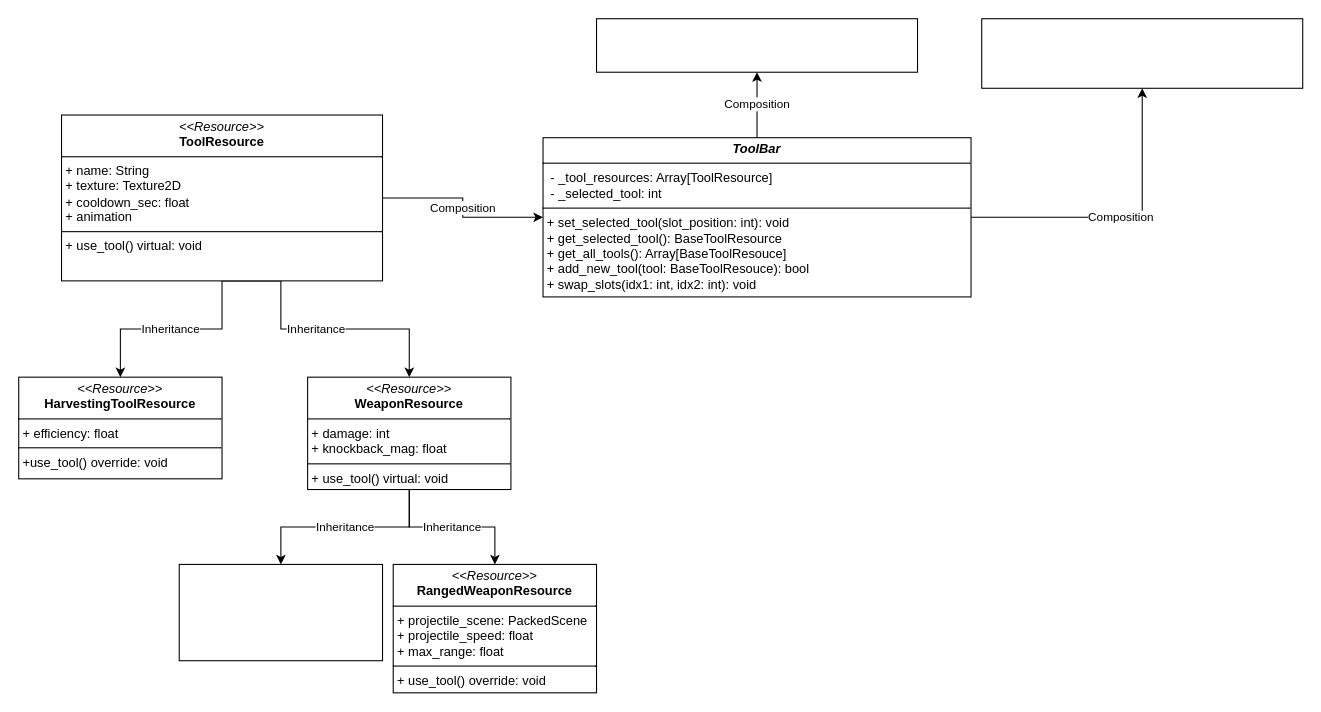
The diagram is 1321 pixels wide and 712 high, and some of its shapes have lost their labels. Each missing label, with the centre of its shape:
"<<Resource>> MeleeWeaponResource + use_tool() override: void" belongs at point (280, 612).
"Player - _toolbar: ToolBar" belongs at point (756, 45).
"ToolBarUi - _toolbar: ToolBar" belongs at point (1142, 53).
